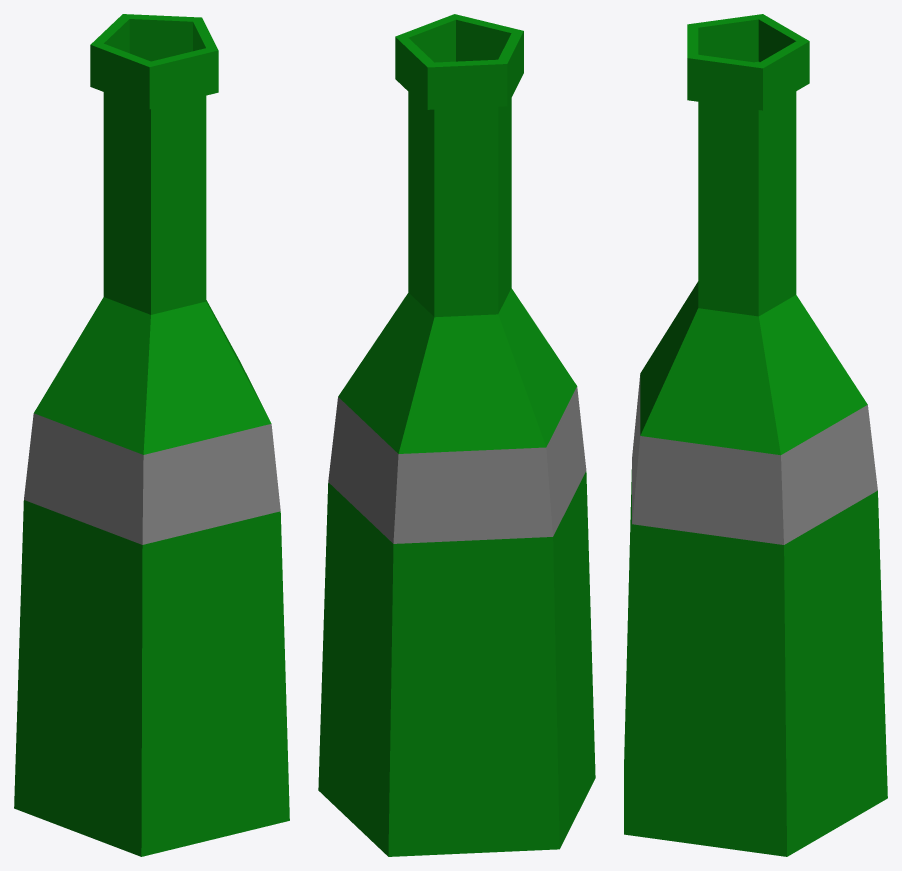
Rendered from BeerBottle.fbx.
3 views of the same model, side by side, from view 1: azimuth 30°, elevation 25°; view 2: azimuth 150°, elevation 25°; view 3: azimuth 270°, elevation 25° (orthographic).
Parts seen in each view (by area): view 1: Cylinder; view 2: Cylinder; view 3: Cylinder.
Boxes of the visible parts, box(x1,y1,x2,y2) form: Cylinder: box(14, 14, 289, 856); Cylinder: box(318, 14, 595, 856); Cylinder: box(624, 14, 887, 856).
Size of the model in its own units: 190 by 573 by 181.
